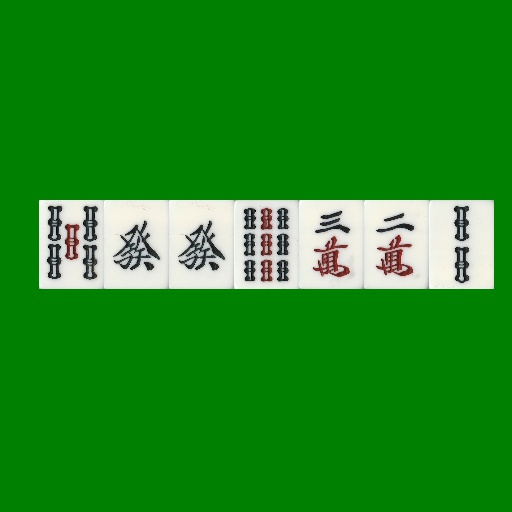2m: (364, 200, 429, 289)
2s: (429, 200, 494, 289)
3m: (299, 200, 364, 289)
5s: (39, 200, 104, 289)
9s: (234, 200, 299, 289)
hatsu: (104, 200, 169, 289), (169, 200, 234, 289)
